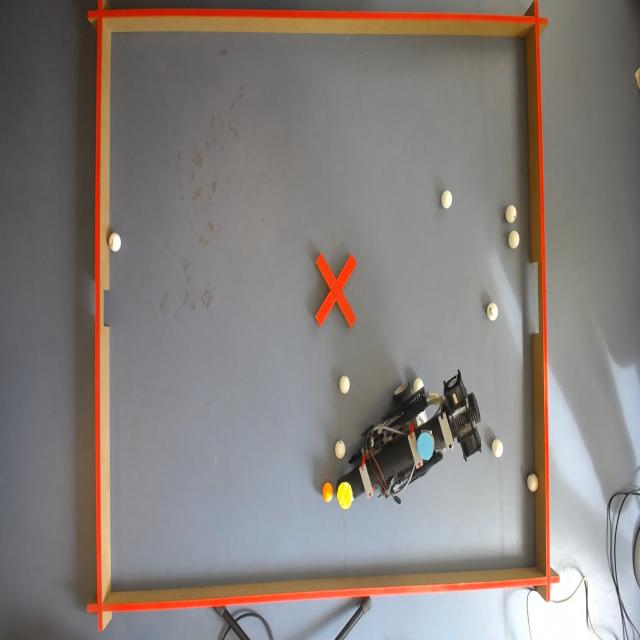orange: (321, 483, 333, 501)
robot: (336, 372, 484, 514)
robot-front: (336, 482, 354, 509)
robot-rear: (416, 432, 434, 462)
white: (526, 473, 539, 494), (508, 229, 520, 250), (110, 231, 122, 252), (335, 440, 347, 460), (338, 376, 351, 393), (487, 302, 498, 322), (412, 376, 424, 394), (507, 204, 518, 223), (493, 440, 504, 458), (442, 191, 452, 209)
